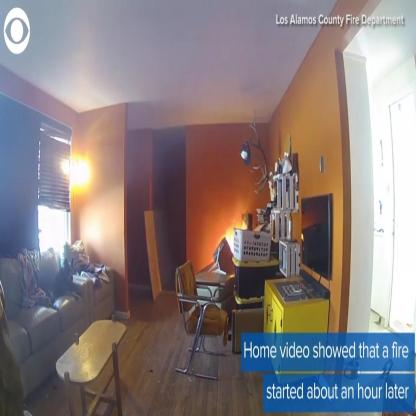fire: (223, 221, 247, 258)
